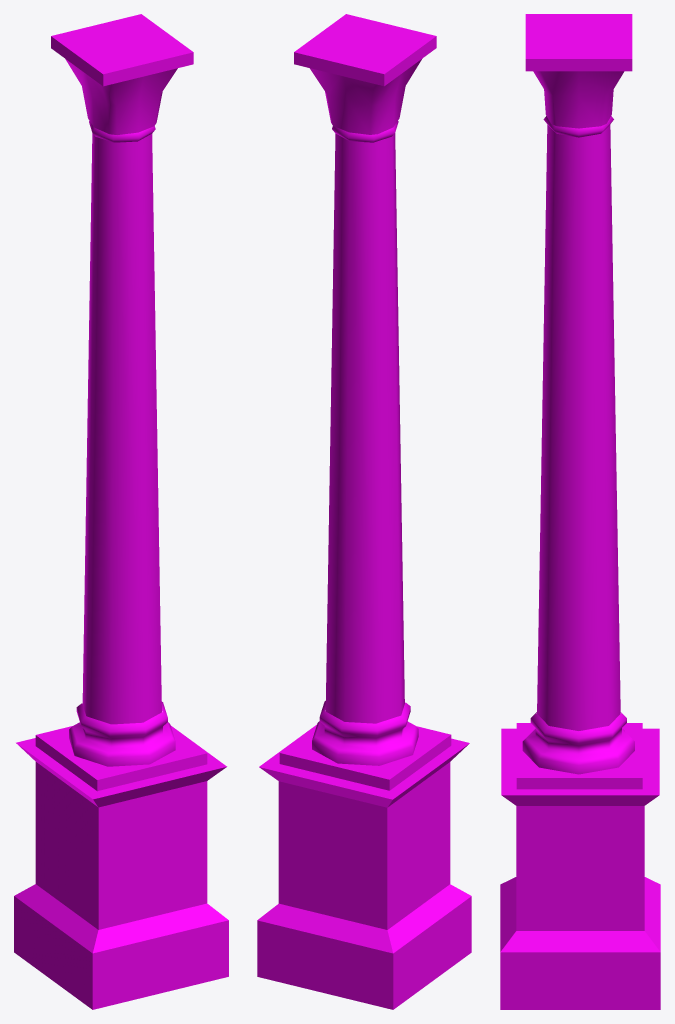
File: column_roman_d.glb
3 renders of one model, left to right at view 1: azimuth 30°, elevation 25°; view 2: azimuth 150°, elevation 25°; view 3: azimuth 270°, elevation 25°, orthographic. The views are drawn at different scales.
Visible parts, largest first — view 1: rostrumMesh_001-mesh; view 2: rostrumMesh_001-mesh; view 3: rostrumMesh_001-mesh.
Boxes of the visible parts, x1,y1,x2,y2 form: rostrumMesh_001-mesh: (14, 14, 228, 1009); rostrumMesh_001-mesh: (257, 14, 471, 1009); rostrumMesh_001-mesh: (500, 14, 660, 1009).
Bounding box in the file's own units: 2.41 × 15.59 × 2.41.
